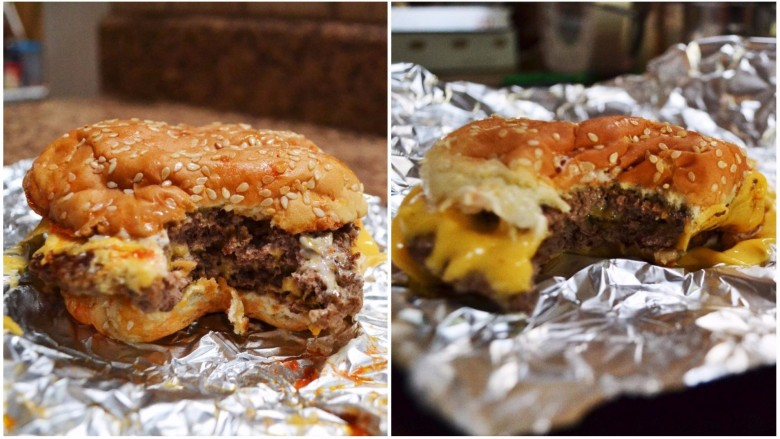hamburger_buns: (45, 108, 379, 363), (422, 100, 772, 305)
